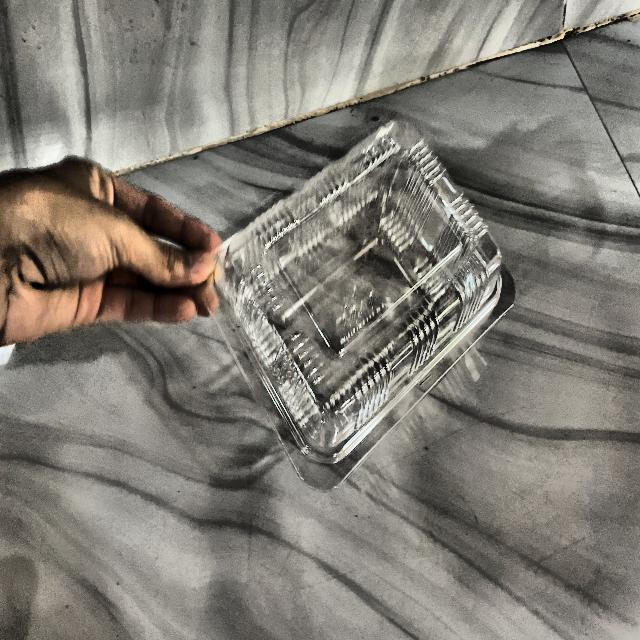plastic container: (211, 130, 496, 506)
